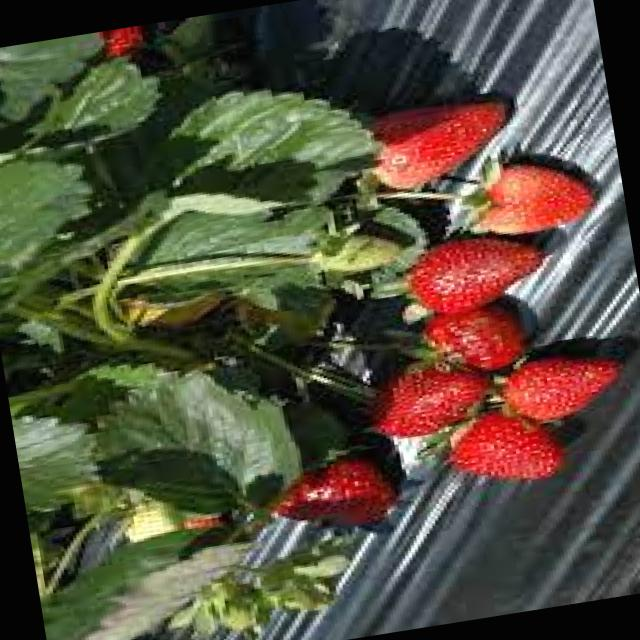strawberry: (354, 80, 524, 190), (404, 225, 548, 328), (456, 150, 606, 240), (423, 406, 558, 500), (484, 344, 626, 431), (376, 362, 484, 452), (434, 299, 538, 379)
